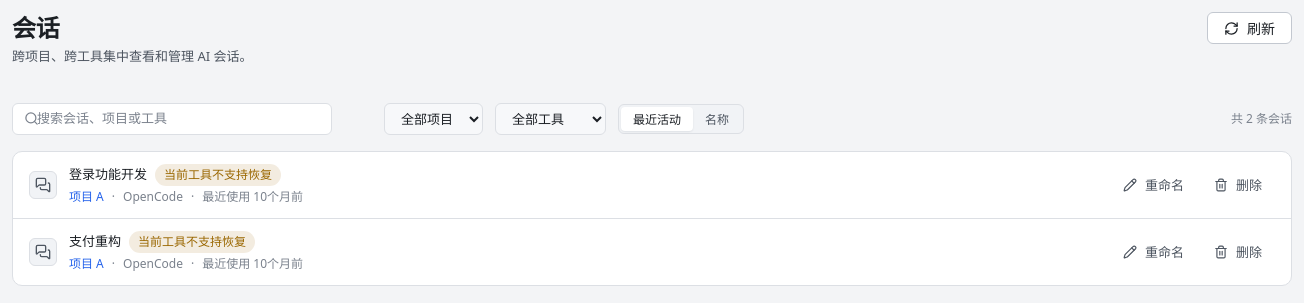
会话中心 › 按会话名称即时搜索过滤
Check: the text "登录功能开发" is shown, box [69,165,147,184]
Type "支付" into the search field labelled "搜索会话" at (172, 119), box [12,103,332,135]
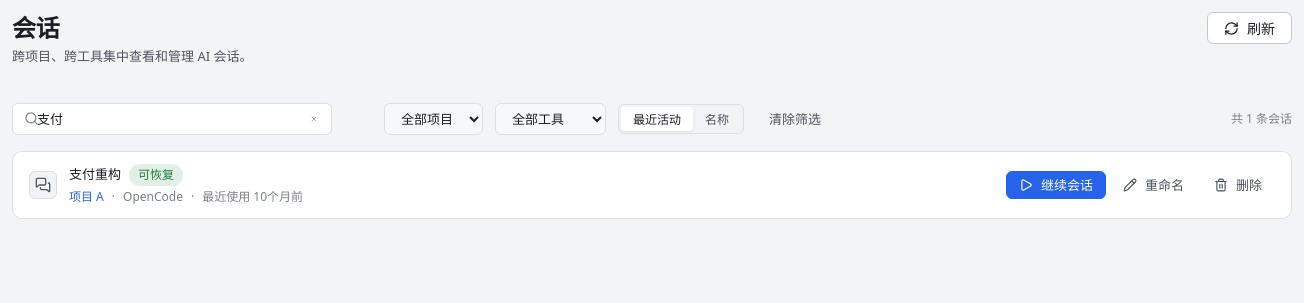
Check: the text "支付重构" is shown, box [69,165,121,184]
Check: the text "登录功能开发" is gone
